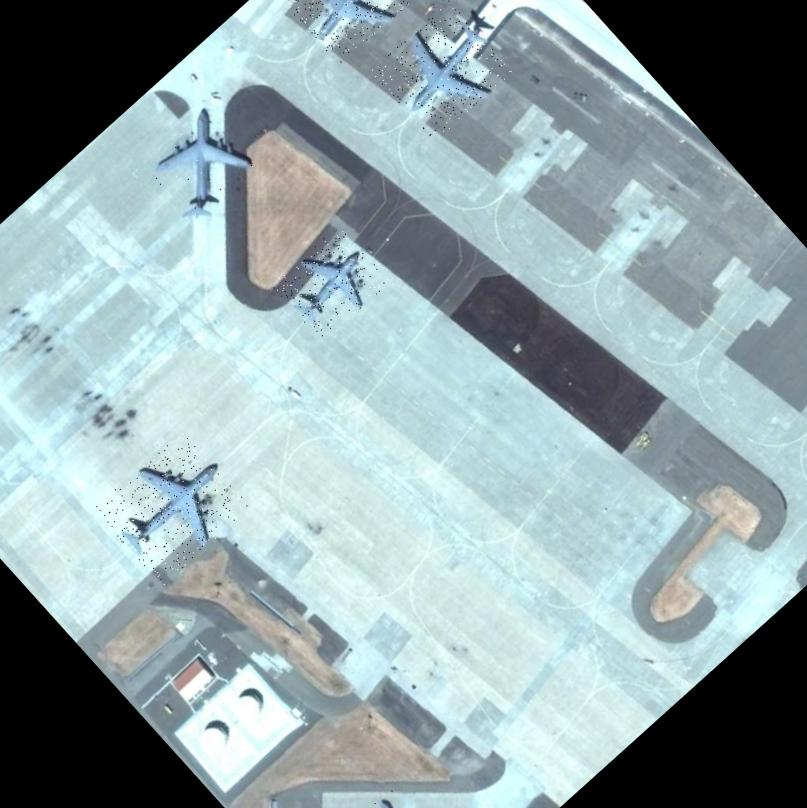A3: (270, 224, 390, 342)
A4: (91, 429, 250, 587), (370, 1, 512, 142), (135, 104, 264, 233), (276, 0, 414, 66)
